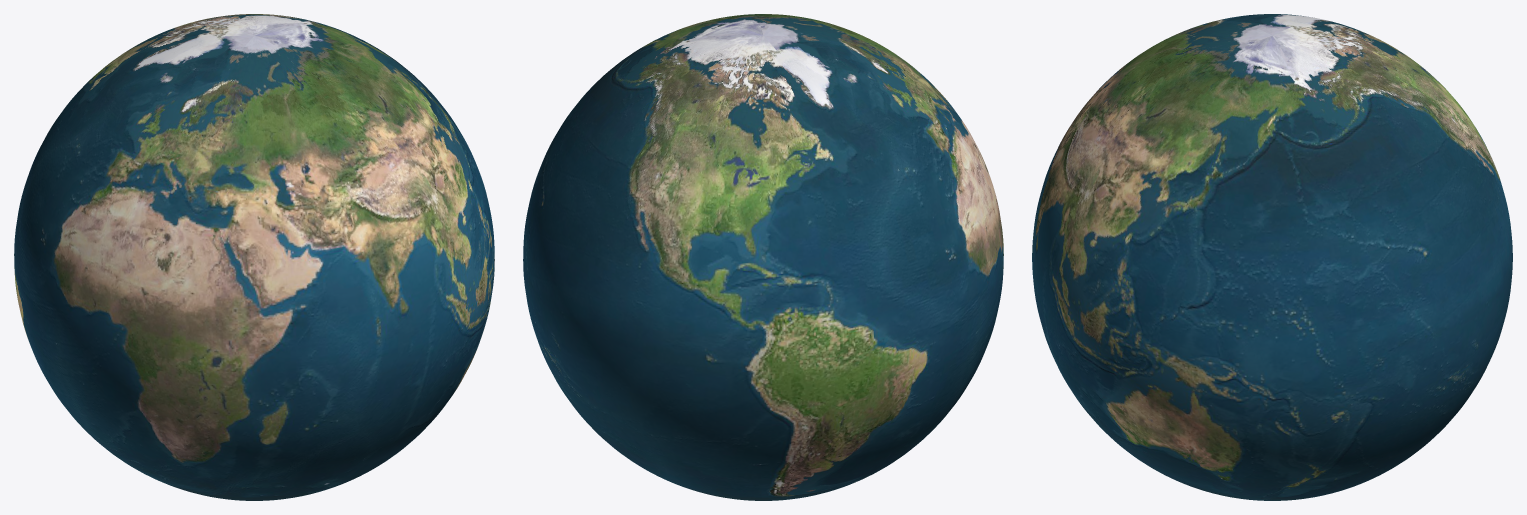
Rendered from HiSphere.fbx.
The picture shows the model from 3 angles, left to right: view 1: azimuth 30°, elevation 25°; view 2: azimuth 150°, elevation 25°; view 3: azimuth 270°, elevation 25°; orthographic projection.
Parts seen in each view (by area): view 1: HiSphere; view 2: HiSphere; view 3: HiSphere.
Part boxes in pixels (x1=…): HiSphere: x1=14, y1=14, x2=494, y2=500; HiSphere: x1=523, y1=14, x2=1003, y2=500; HiSphere: x1=1032, y1=14, x2=1512, y2=500.
Bounding box in the file's own units: 0.0589 × 0.0599 × 0.0589.
1 material, 1 textured.
